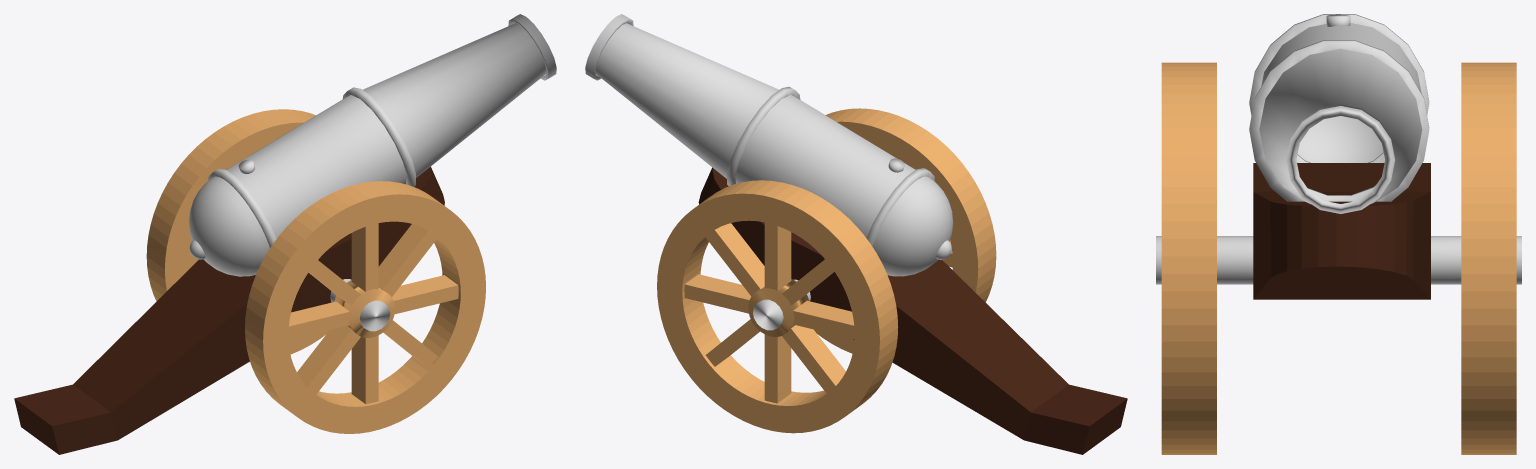
The model's file is CannonStorm3.glb.
3 renders of one model, left to right at view 1: azimuth 30°, elevation 25°; view 2: azimuth 150°, elevation 25°; view 3: azimuth 270°, elevation 25°, orthographic. The views are drawn at different scales.
Parts seen in each view (by area): view 1: Wheel01, Cannon, Base, Wheel01.001, Axis; view 2: Wheel01.001, Cannon, Base, Wheel01, Axis; view 3: Cannon, Wheel01.001, Wheel01, Base, Axis.
Boxes of the visible parts, left/top/right/bottom form: Wheel01: left=245, top=181, right=485, bottom=433; Cannon: left=189, top=14, right=556, bottom=276; Base: left=14, top=166, right=444, bottom=454; Wheel01.001: left=146, top=109, right=328, bottom=361; Axis: left=330, top=279, right=390, bottom=331; Wheel01.001: left=657, top=180, right=898, bottom=433; Cannon: left=585, top=14, right=953, bottom=276; Base: left=698, top=167, right=1127, bottom=454; Wheel01: left=814, top=108, right=996, bottom=353; Axis: left=753, top=279, right=810, bottom=330; Cannon: left=1249, top=14, right=1429, bottom=213; Wheel01.001: left=1461, top=62, right=1516, bottom=454; Wheel01: left=1161, top=62, right=1216, bottom=454; Base: left=1253, top=163, right=1430, bottom=299; Axis: left=1156, top=236, right=1521, bottom=284.
Bounding box in the file's own units: 9.45 × 5.62 × 3.82.
